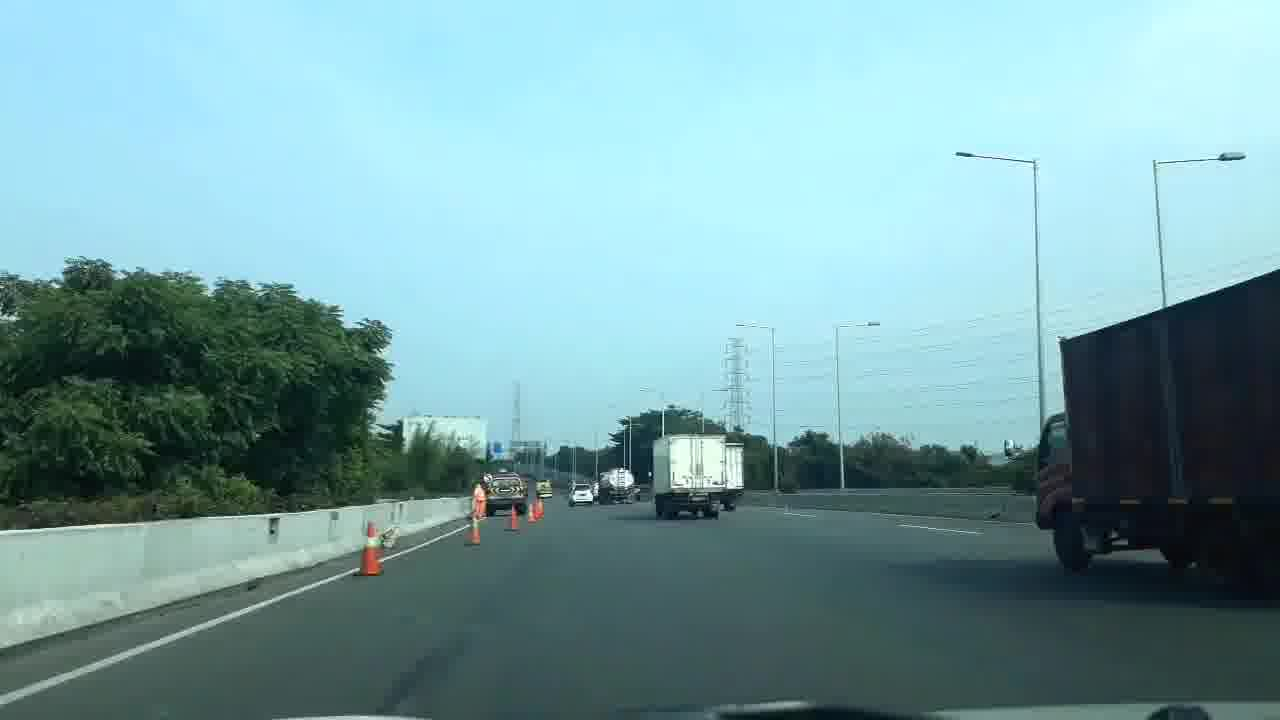plate_positive: (689, 496, 708, 501)
